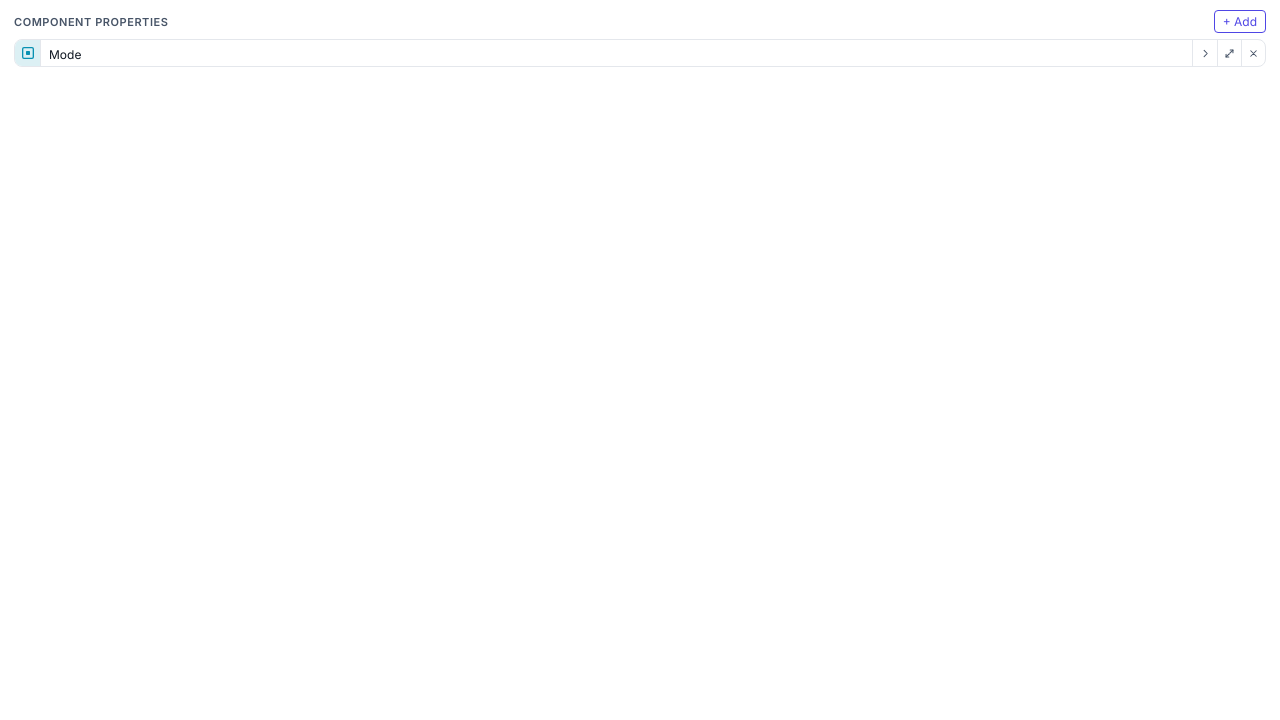
Test case: ComponentPropertiesEditor — select option values › gives the option list a number cell once the kind is a number
The image size is (1280, 720).
Click the text "Mode" at (65, 54), box [49,47,81,62]
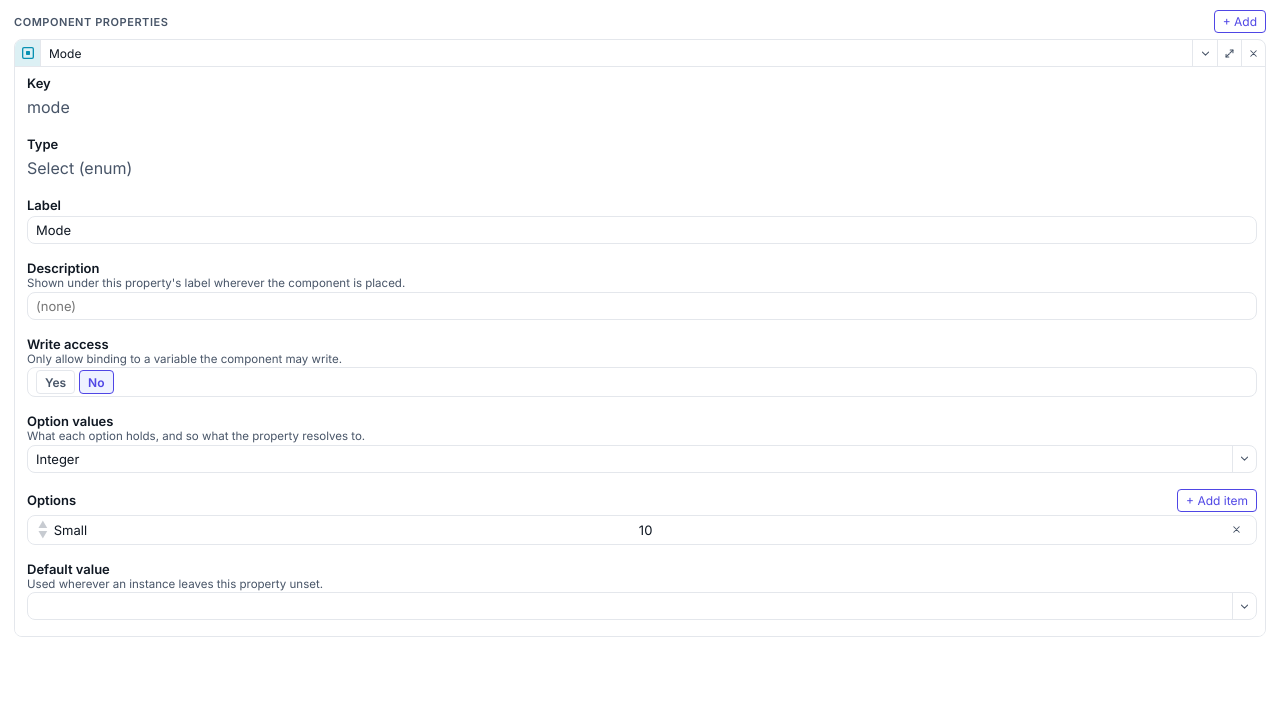
Expected: the number field holds "10", [639,519,1220,541]
